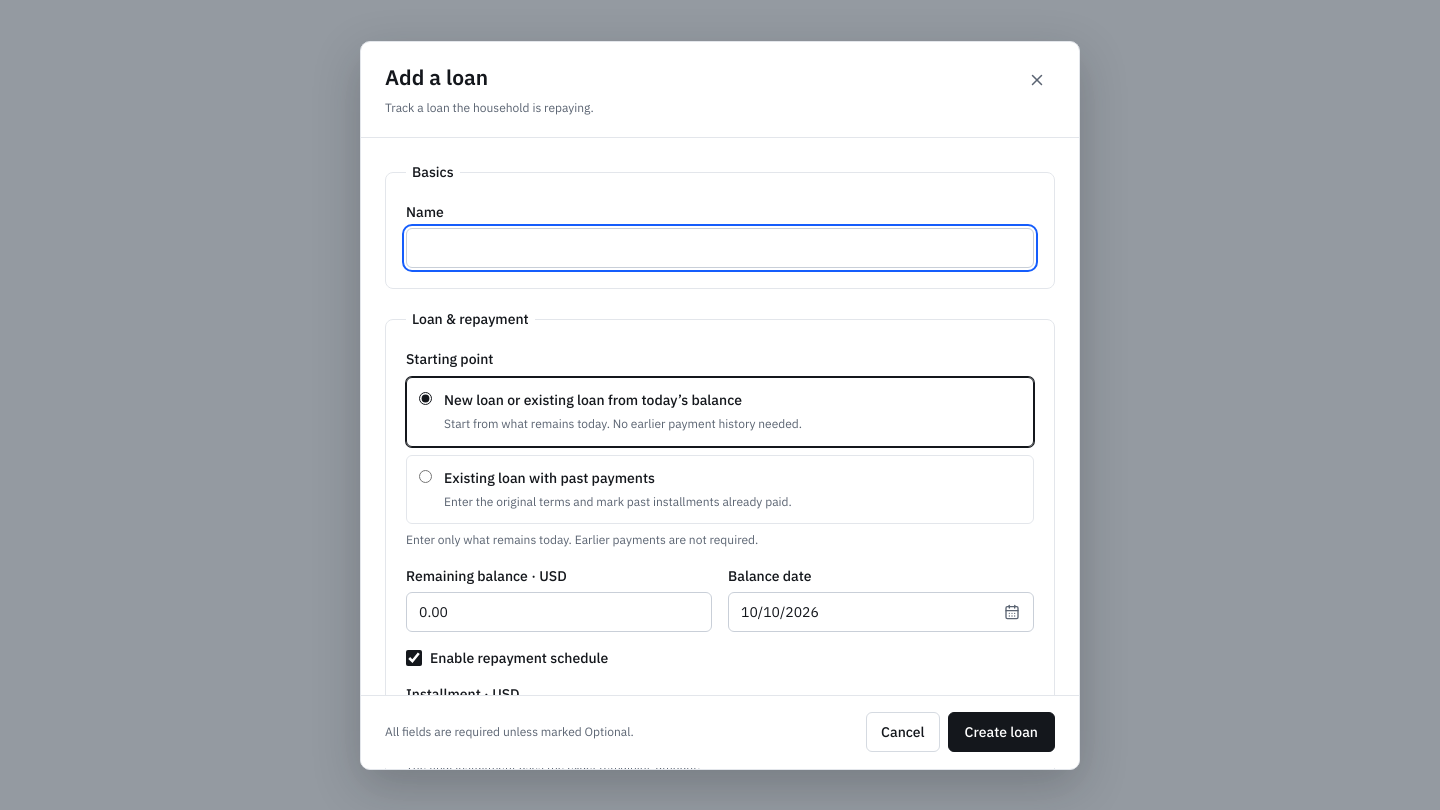
Test: Finance editor validation and draft protection › validates a new loan balance independently from an existing repayment base
Replace the text in the field with id "edit-balance" with "10.001" at (559, 612), box [406, 592, 712, 632]
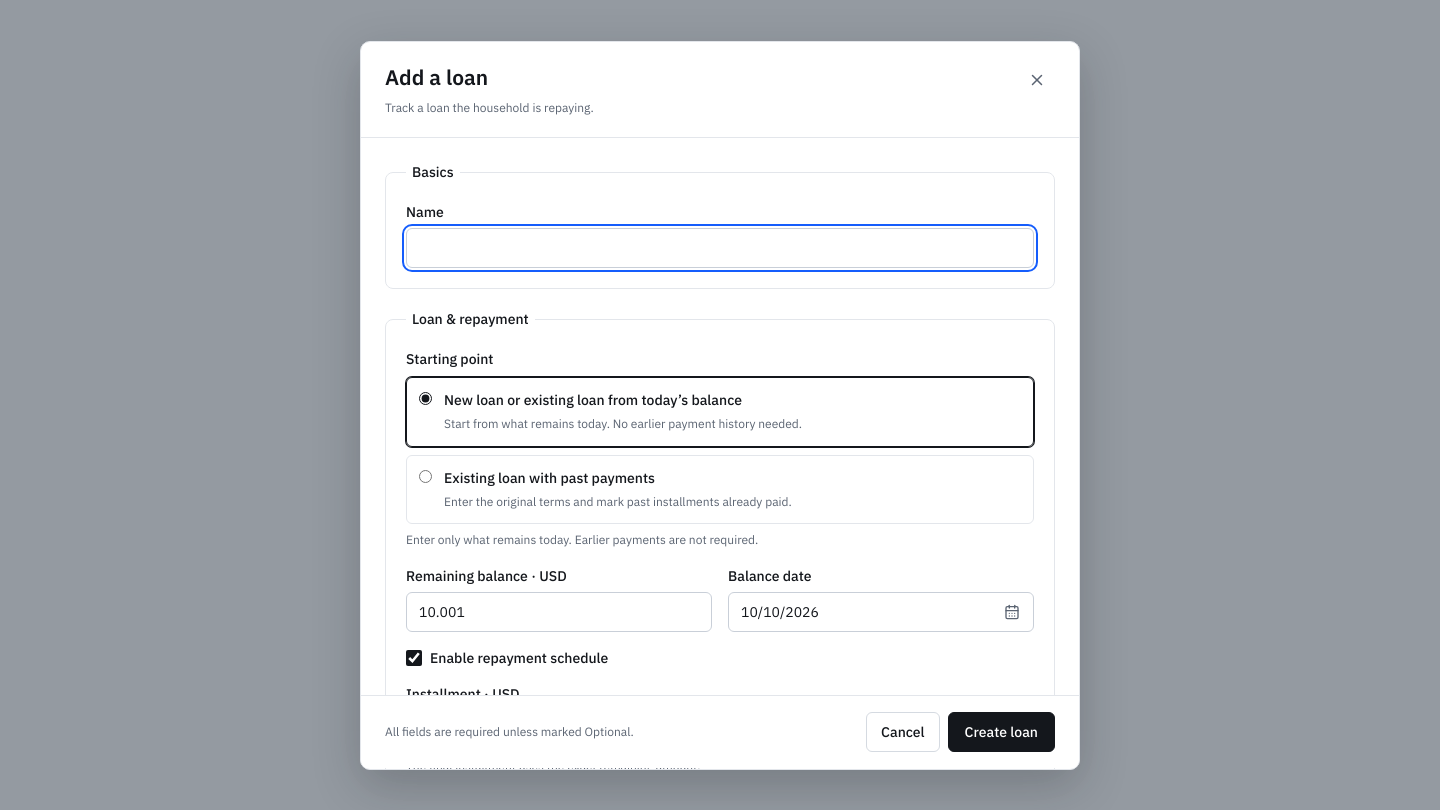
Leave the field with id "edit-balance", box [406, 592, 712, 632]
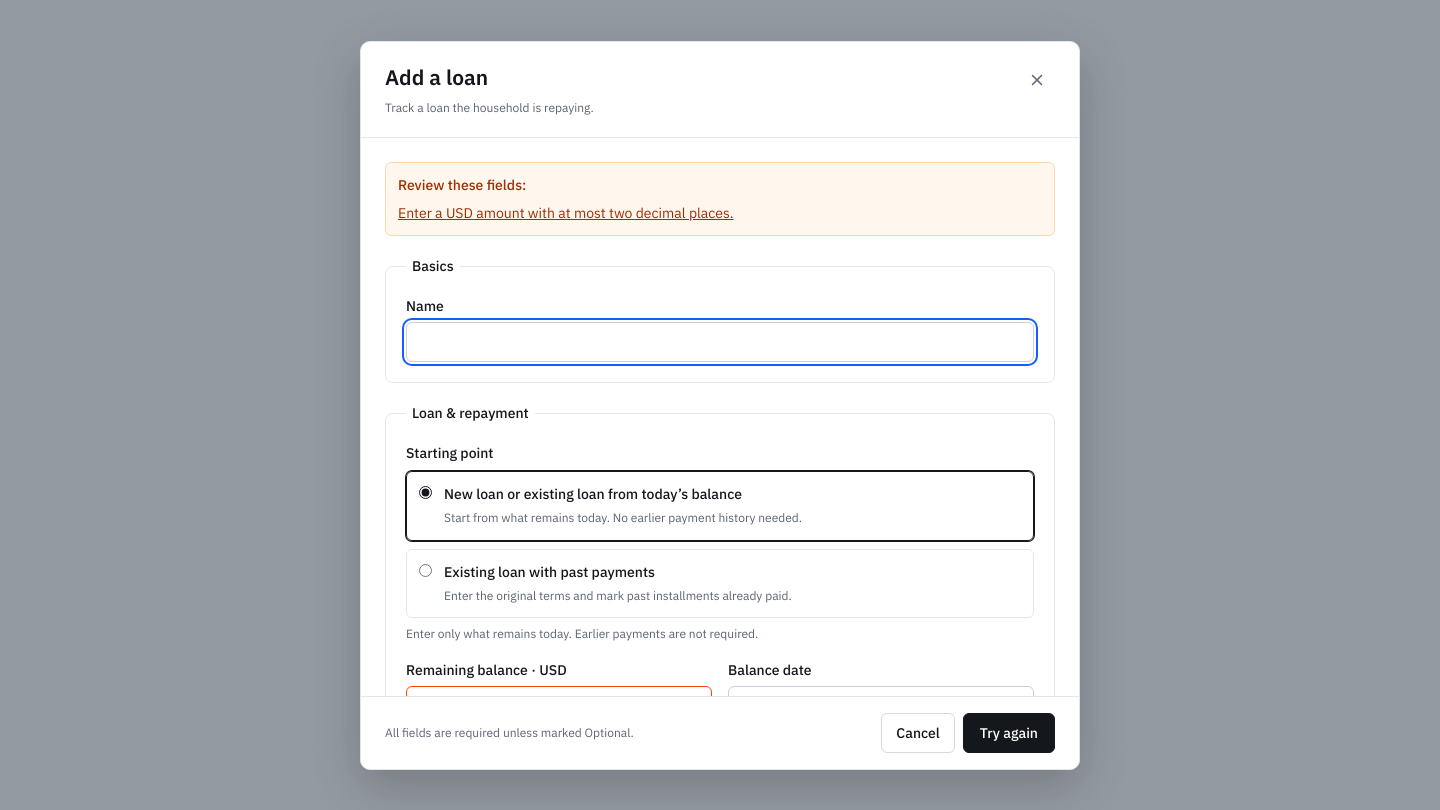
Expected: the text "⚠ Enter a USD amount with at most two decimal places." is shown, [406, 732, 712, 751]
